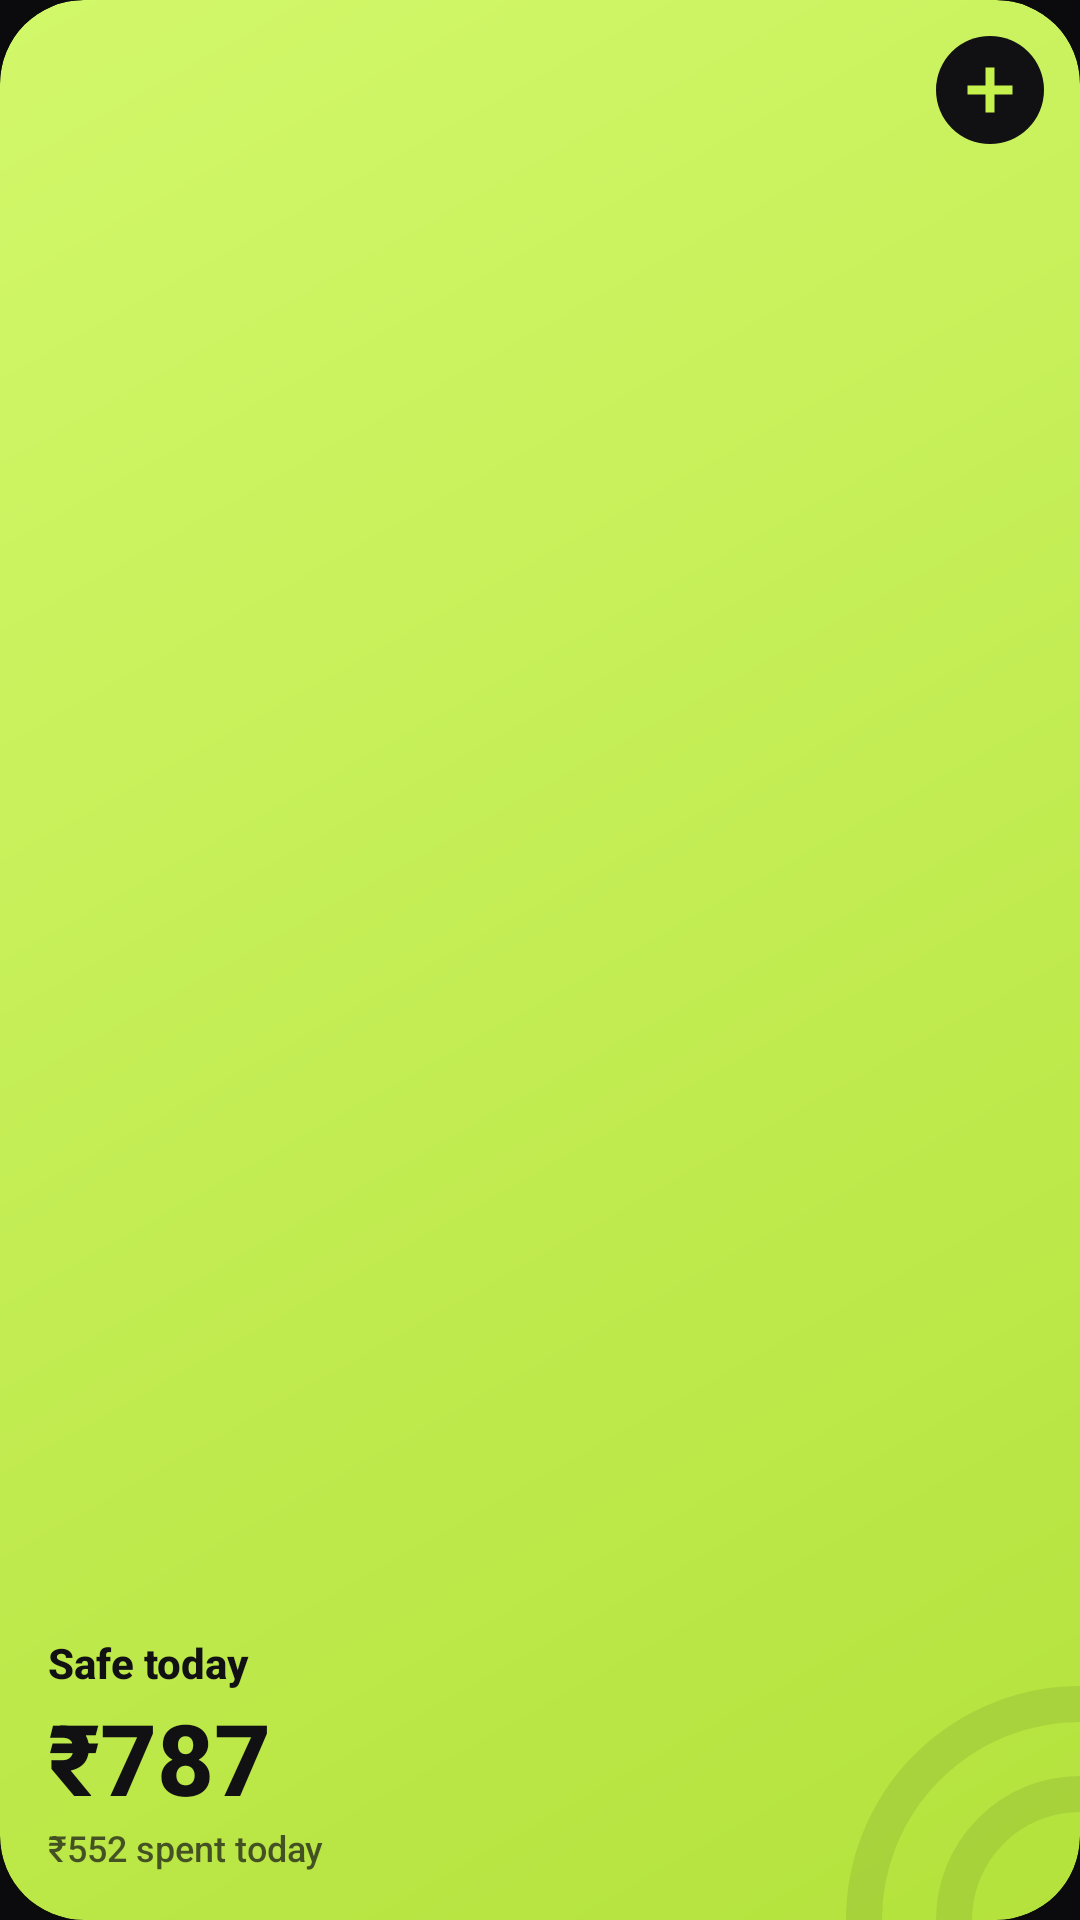

Named icons in this screenshot (1080px×1920px) and their centers, [x,y]:
Add a payment: [990,90]
